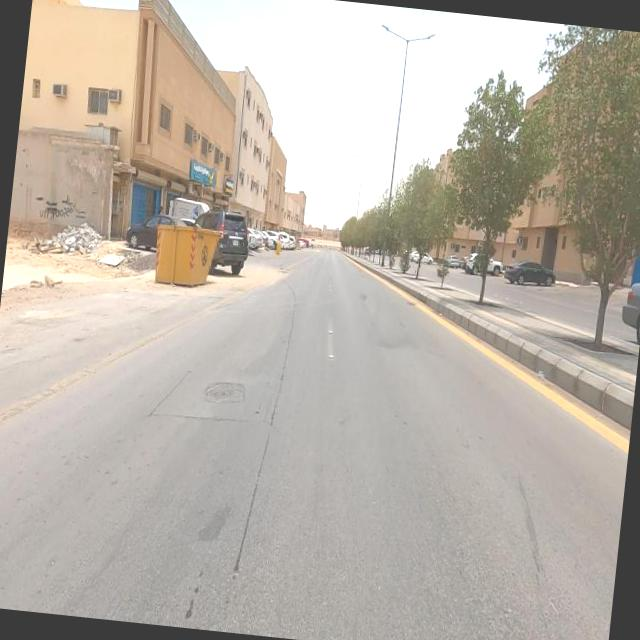debris: (5, 161, 104, 263), (43, 200, 109, 286), (86, 226, 146, 300)
